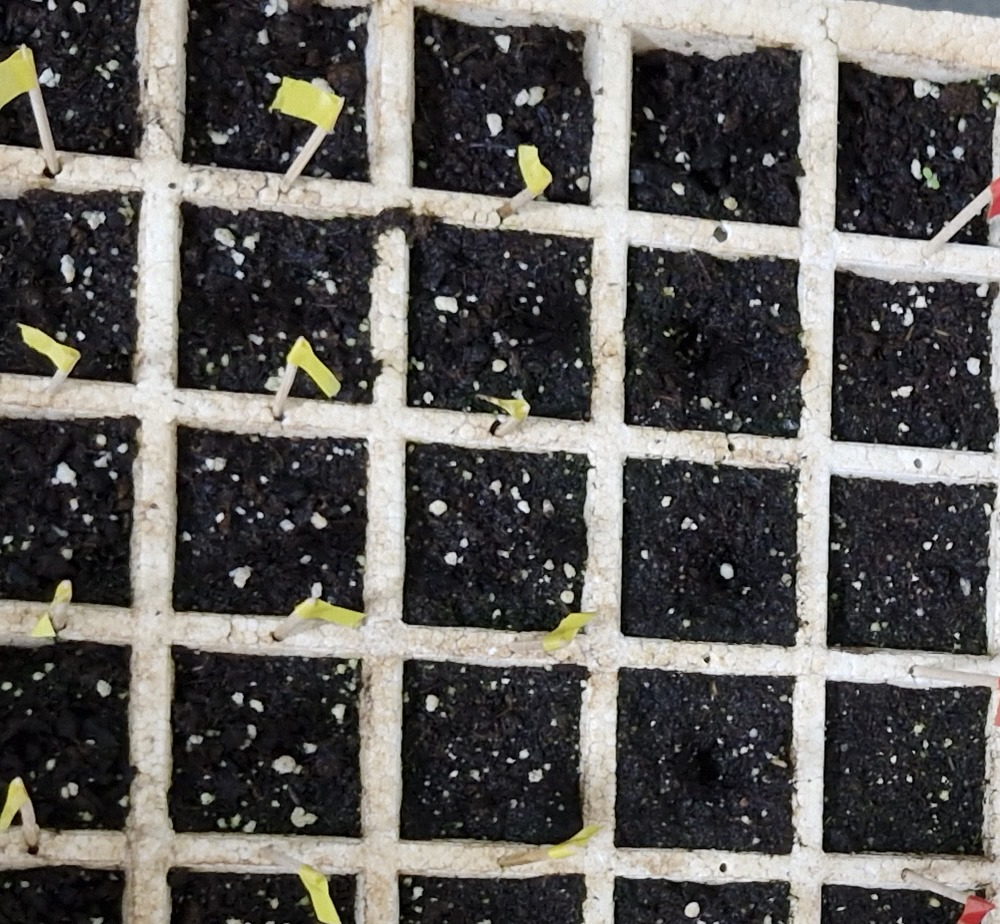Folha: (342, 452, 355, 463), (349, 444, 363, 454)
Germinacao: (342, 443, 362, 462)
